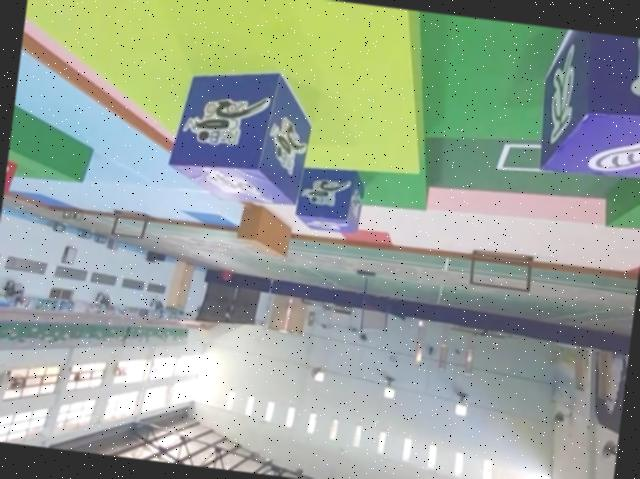R1 Blue: (165, 59, 319, 209), (293, 163, 366, 235)
R2 Fake Blue: (535, 26, 640, 184)
